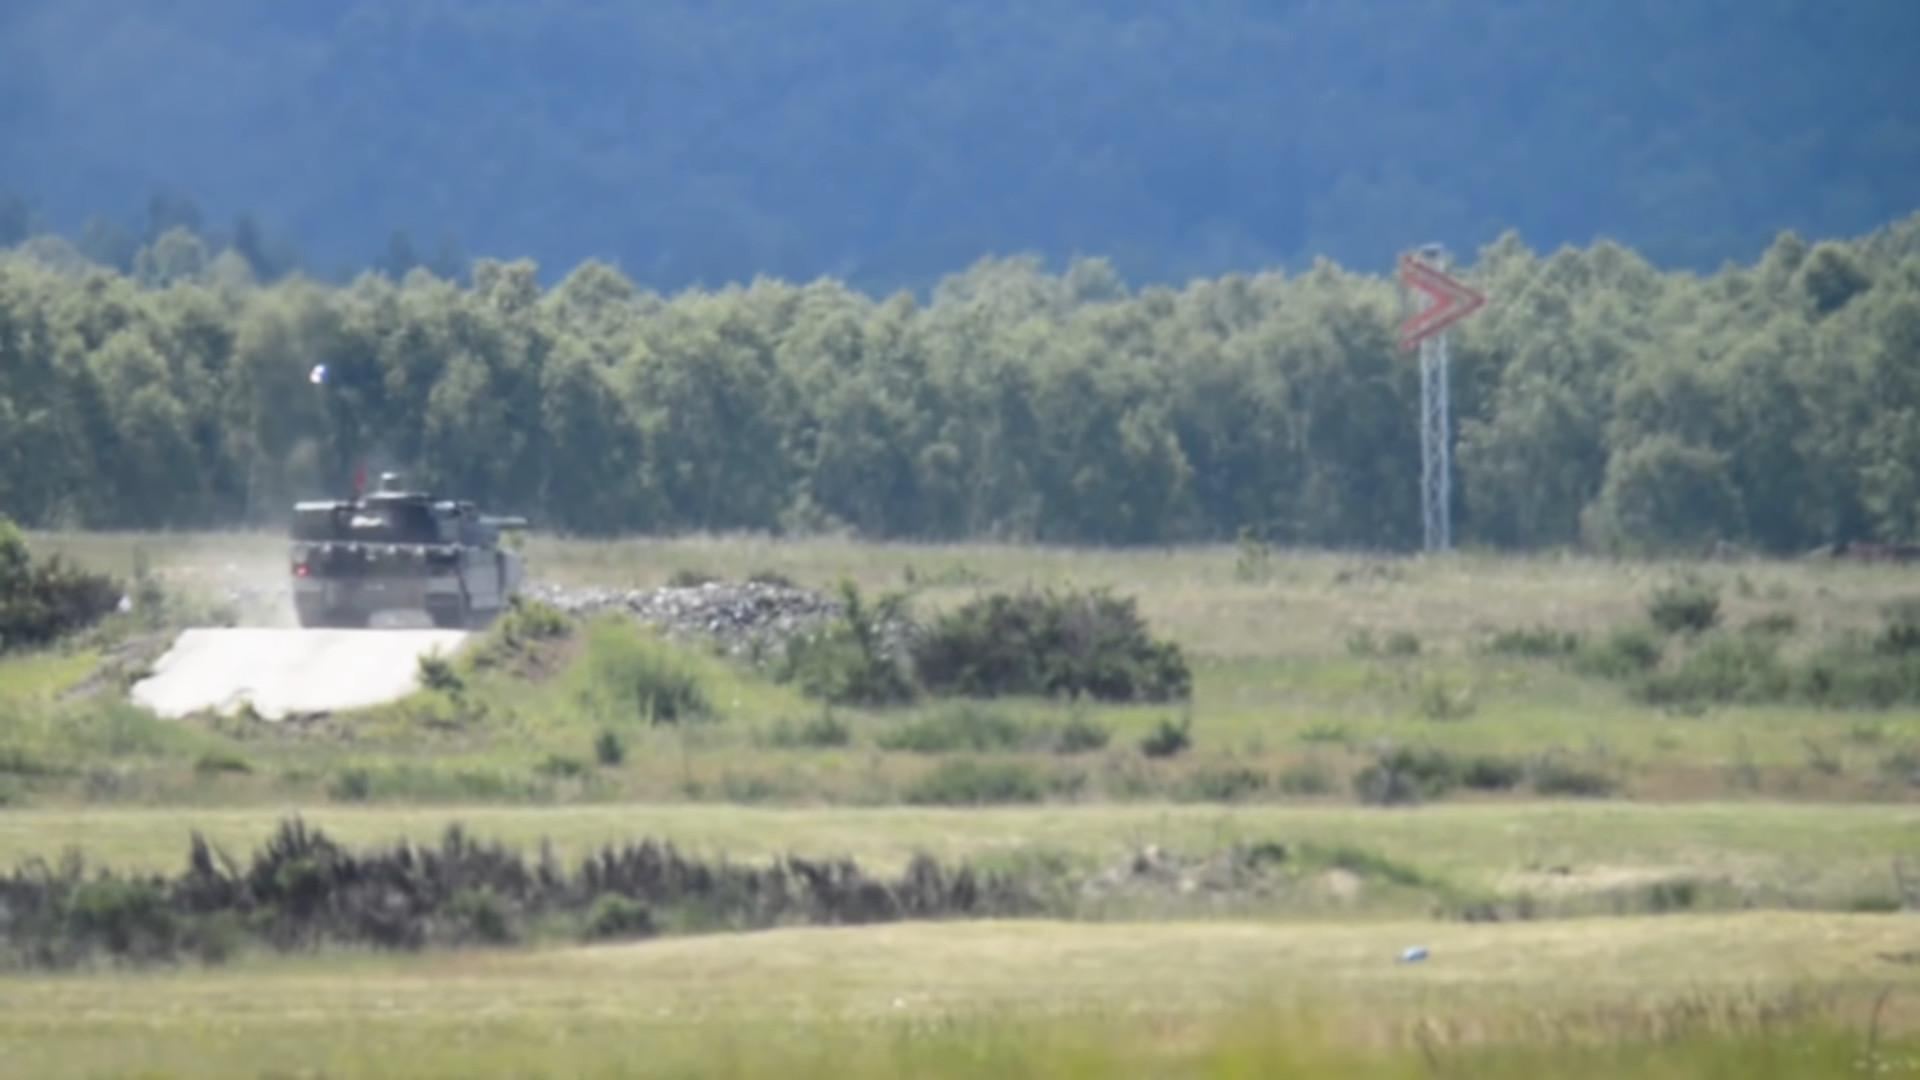tank: (290, 475, 527, 628)
